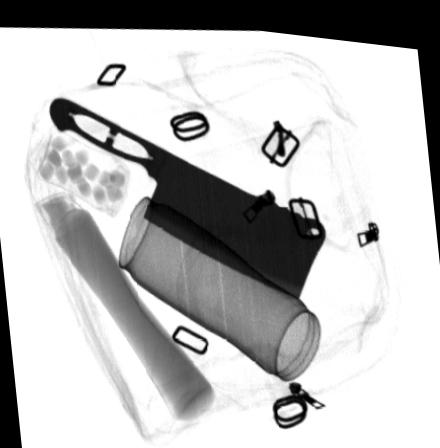Knife: (48, 93, 327, 292)
